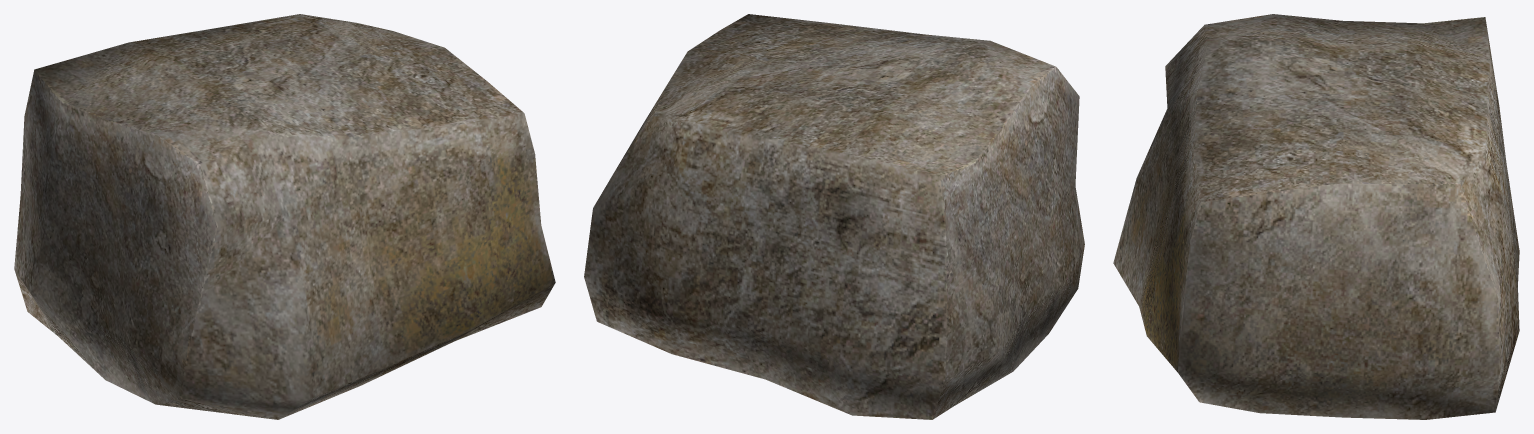
The model's file is Stonewall.fbx.
3 views of the same model, side by side, from view 1: azimuth 30°, elevation 25°; view 2: azimuth 150°, elevation 25°; view 3: azimuth 270°, elevation 25° (orthographic). The views are drawn at different scales.
Visible parts, largest first — view 1: LV_Common_Rock_A_Stonewall02_SM_EYE; view 2: LV_Common_Rock_A_Stonewall02_SM_EYE; view 3: LV_Common_Rock_A_Stonewall02_SM_EYE.
Boxes of the visible parts, bbox=[...] form: LV_Common_Rock_A_Stonewall02_SM_EYE: bbox=[14, 14, 555, 419]; LV_Common_Rock_A_Stonewall02_SM_EYE: bbox=[584, 14, 1084, 419]; LV_Common_Rock_A_Stonewall02_SM_EYE: bbox=[1113, 14, 1519, 419].
Bounding box in the file's own units: 11.49 × 7.62 × 10.21.
